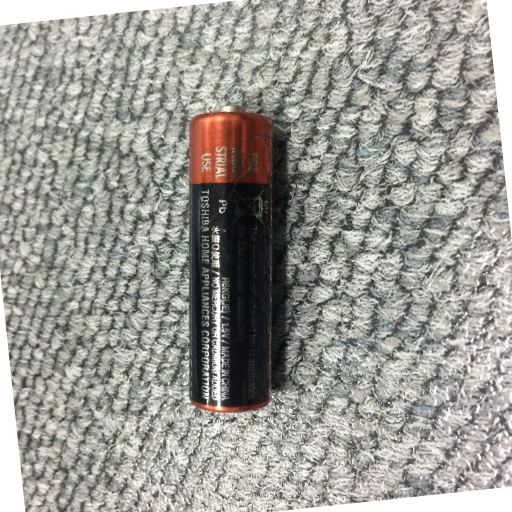Battery_0: (180, 89, 289, 427)
